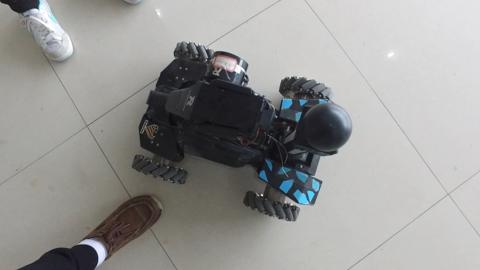chariot: (126, 35, 353, 210)
